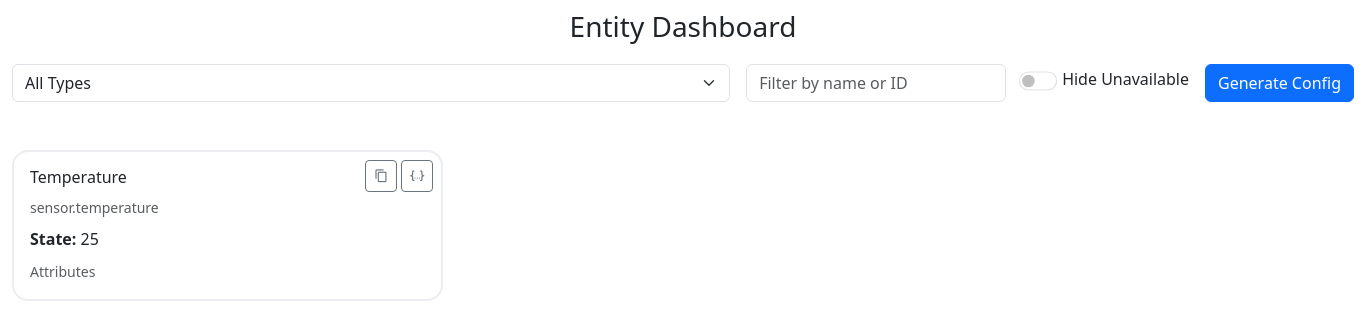
RawEntityView.vue › clears search text when clear button is clicked
Type "test" into the field with placeholder "Filter by name or ID" at coordinates (876, 83), box [746,64,1006,102]
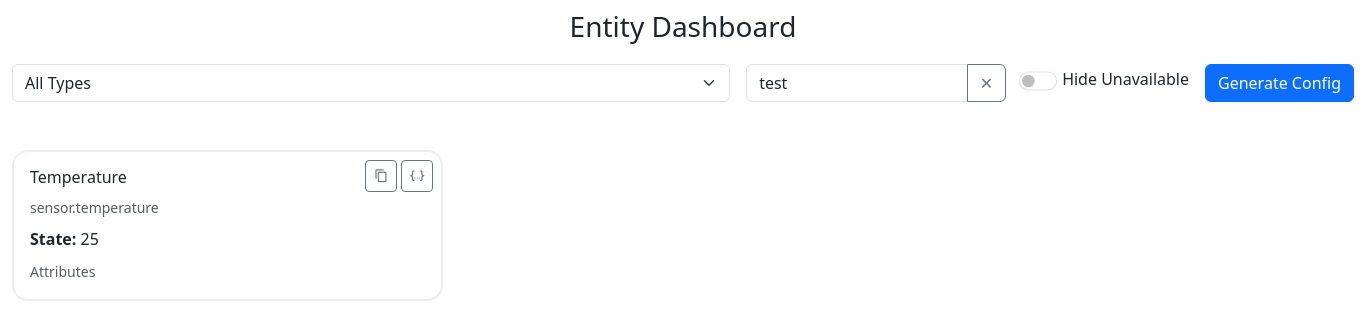
Result: the button named "Clear search" is shown
Click the button named "Clear search" at coordinates (986, 83), box [967,64,1006,102]
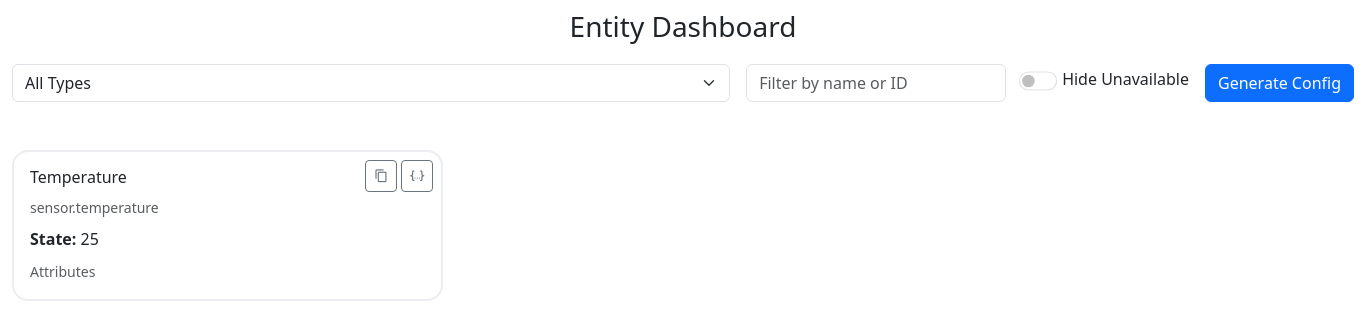
Result: the field with placeholder "Filter by name or ID" is empty at [746,64,1006,102]
